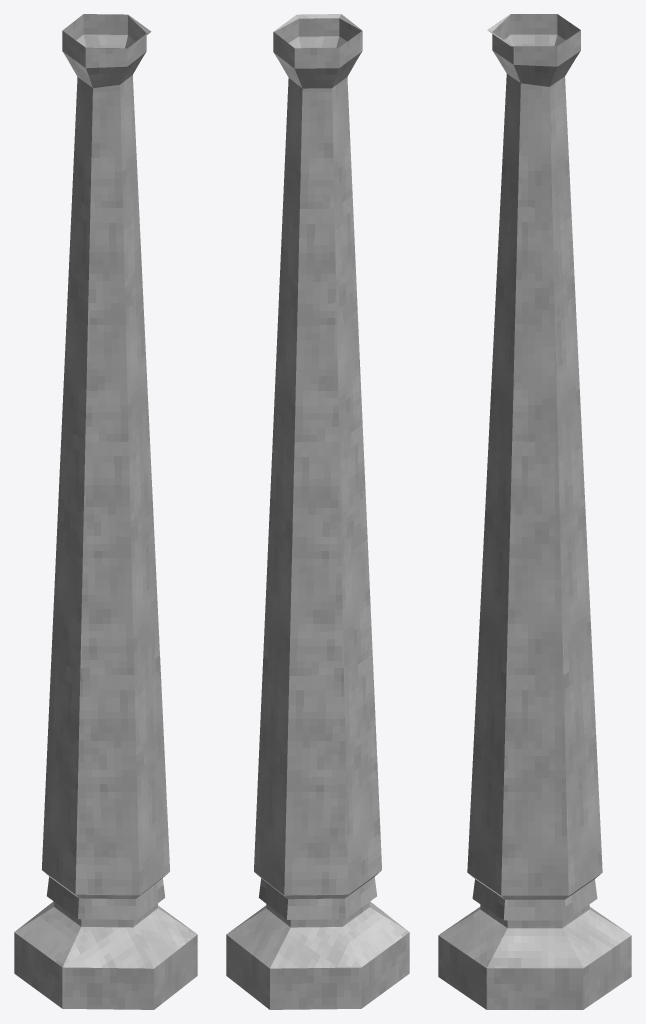
File: FarolCañada_headless.fbx
3 views of the same model, side by side, from view 1: azimuth 30°, elevation 25°; view 2: azimuth 150°, elevation 25°; view 3: azimuth 270°, elevation 25° (orthographic).
Parts seen in each view (by area): view 1: Pie_de_Farol_Cañada.003; view 2: Pie_de_Farol_Cañada.003; view 3: Pie_de_Farol_Cañada.003.
Boxes of the visible parts, x1,y1,x2,y2 form: Pie_de_Farol_Cañada.003: (14, 14, 197, 1009); Pie_de_Farol_Cañada.003: (226, 14, 409, 1009); Pie_de_Farol_Cañada.003: (438, 14, 631, 1009).
Size of the model in its own units: 1.17 by 7.78 by 1.44.
